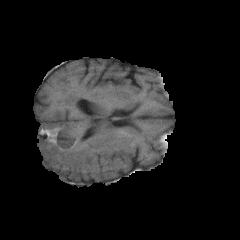glioma: (38, 96, 130, 178)
